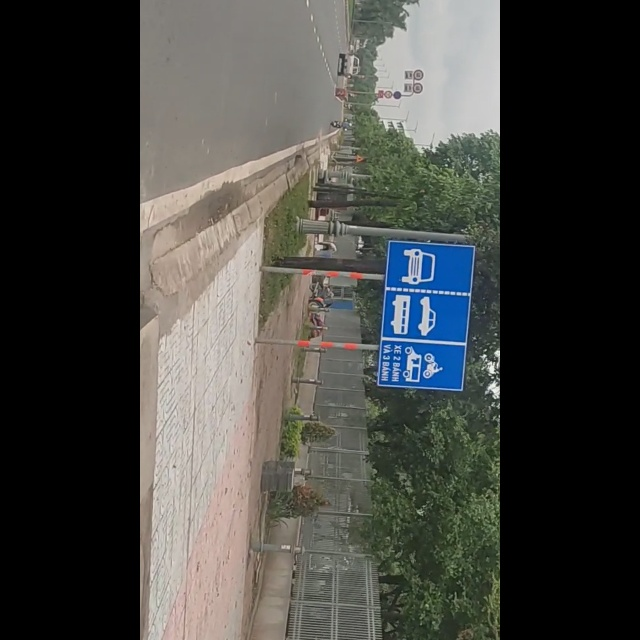bien_chi_dan: (424, 239, 584, 393)
